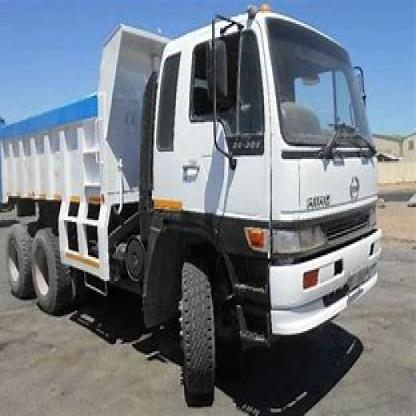dump_truck: (0, 13, 388, 399)
